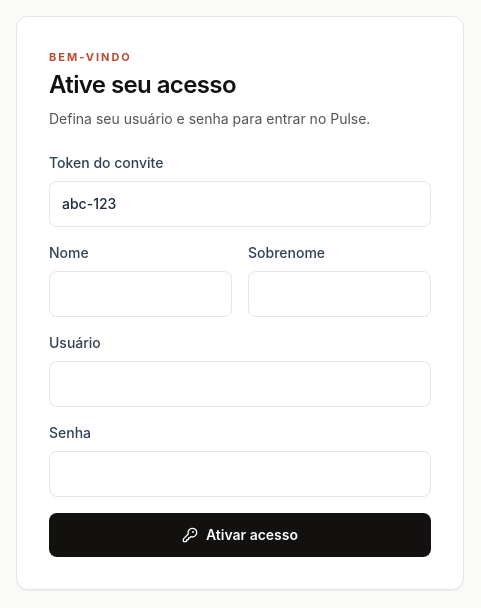
Test: pré-preenche o token da URL e ativa o acesso
Check: the field showing "abc-123" is shown, box [49,181,431,227]
Step 1. Type "novo" into the field labelled "Usuário" → point(240, 384), box [49,361,431,407]
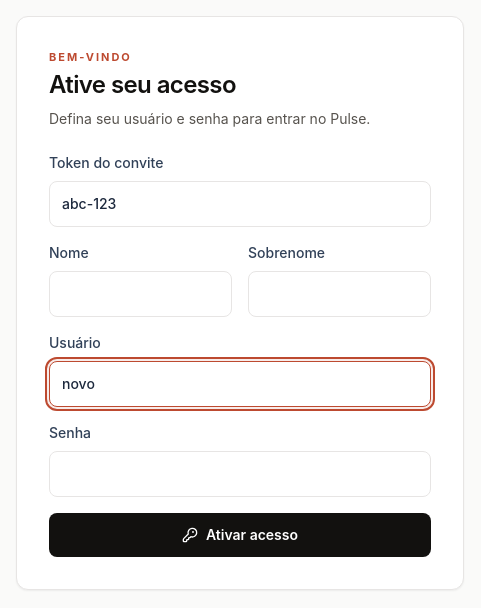
Step 2. Type "SenhaSegura123!" into the password field labelled "Senha" → point(240, 474), box [49,451,431,497]
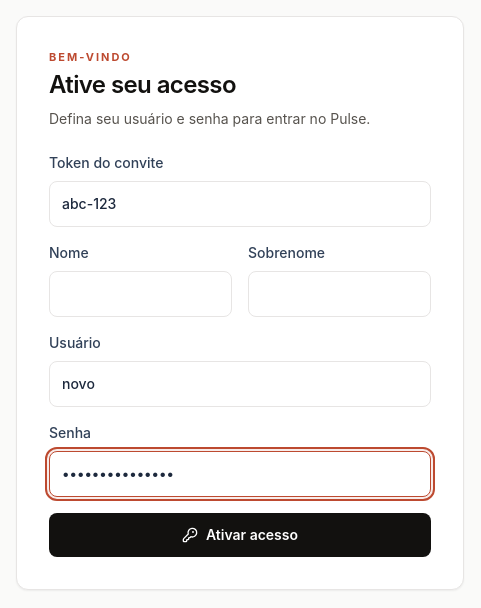
Step 3. Click the button "Ativar acesso" → point(240, 535), box [49,513,431,557]
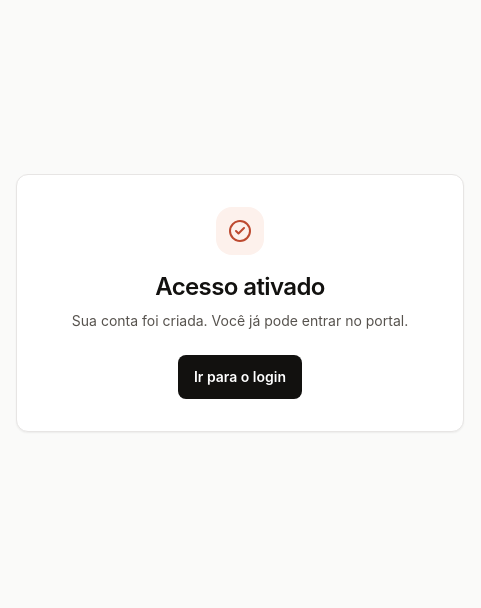
Check: the heading "Acesso ativado" is shown, box [155,272,325,301]
